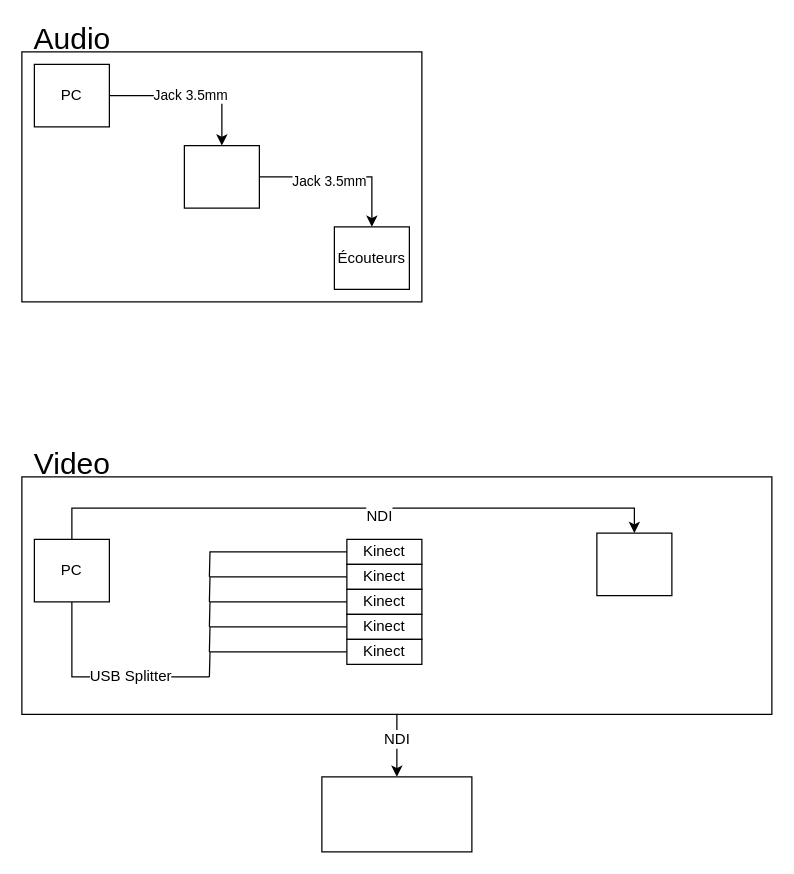
Image size: 794x874. Some labels were removed from this diagram. The shapes that lost their labels are listed below. From the top down, each one's box as (x1, y1, x2, y2) in pixels, then its label:
(183, 144, 259, 208): Carte de son
(596, 532, 672, 596): Projecteur
(321, 776, 472, 852): PC Salle matrice
